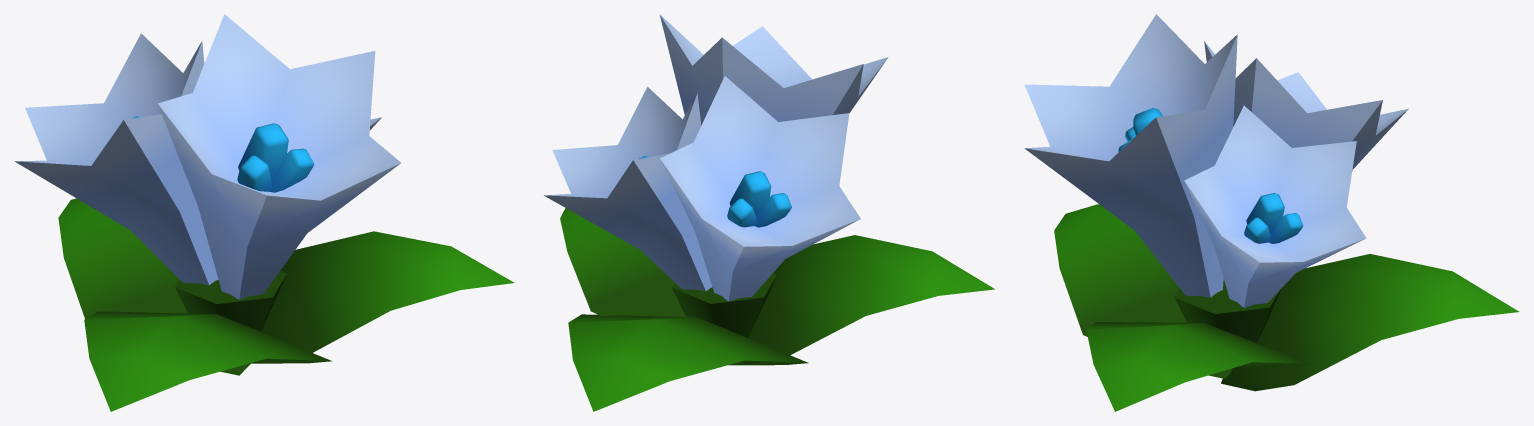
The model's file is Flower05.fbx.
3 renders of one model, left to right at view 1: azimuth 30°, elevation 25°; view 2: azimuth 150°, elevation 25°; view 3: azimuth 270°, elevation 25°, orthographic. The views are drawn at different scales.
Parts seen in each view (by area): view 1: LOD0; view 2: LOD0; view 3: LOD0.
Part boxes in pixels (<box>): LOD0: <box>14,14,514,411</box>; LOD0: <box>544,14,994,411</box>; LOD0: <box>1024,14,1519,411</box>.
Size of what is drawn, in the model's own units: 56.69 by 58.35 by 45.01.
